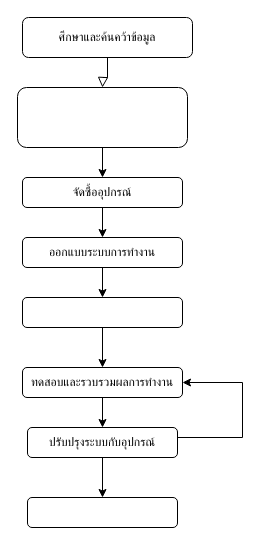
This 268x545 diagram has some shape labels left out. Each missing label, with the box of its shape:
ประกอบอุปกรณ์: (22, 296, 182, 328)
วางแผนการดำเนินงาน โครงสร้างระบบและอุปกรณ์ที่ต้องใช้: (16, 86, 188, 148)
วิเคราะห์และสรุปผลดำเนินการ: (26, 496, 178, 528)
